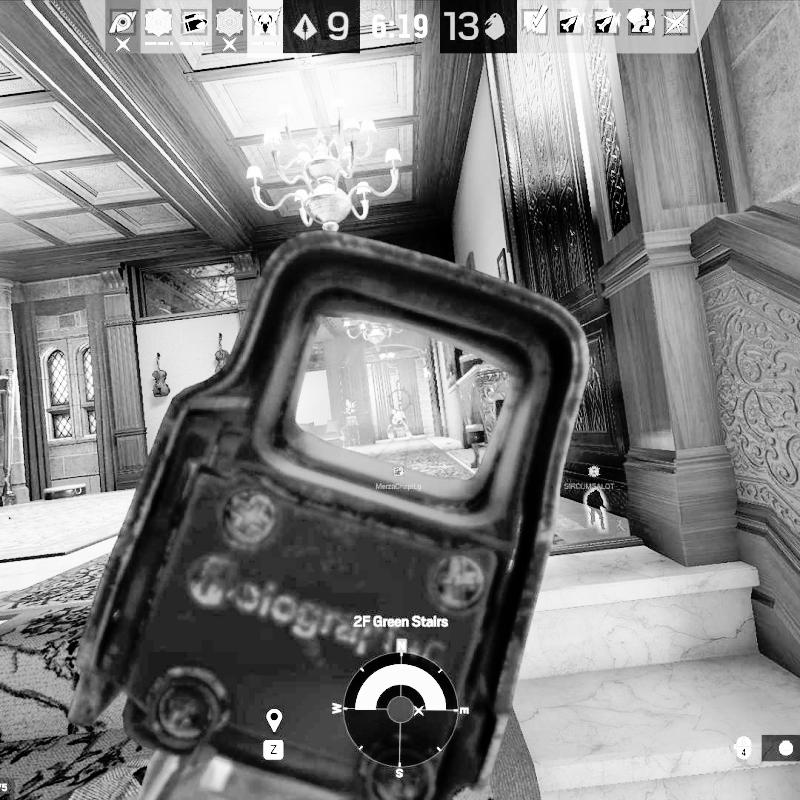Character: (385, 406, 414, 443)
Friend_label: (563, 464, 616, 492), (375, 463, 422, 492)
Head: (392, 407, 399, 411)
